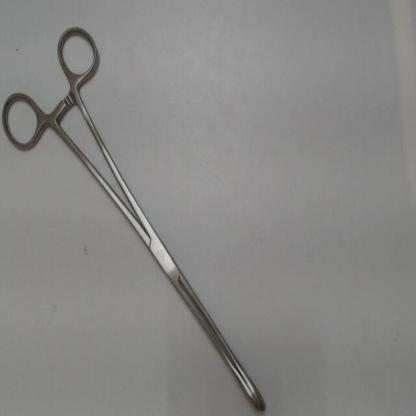Sponge Forceps: (1, 19, 272, 416)
